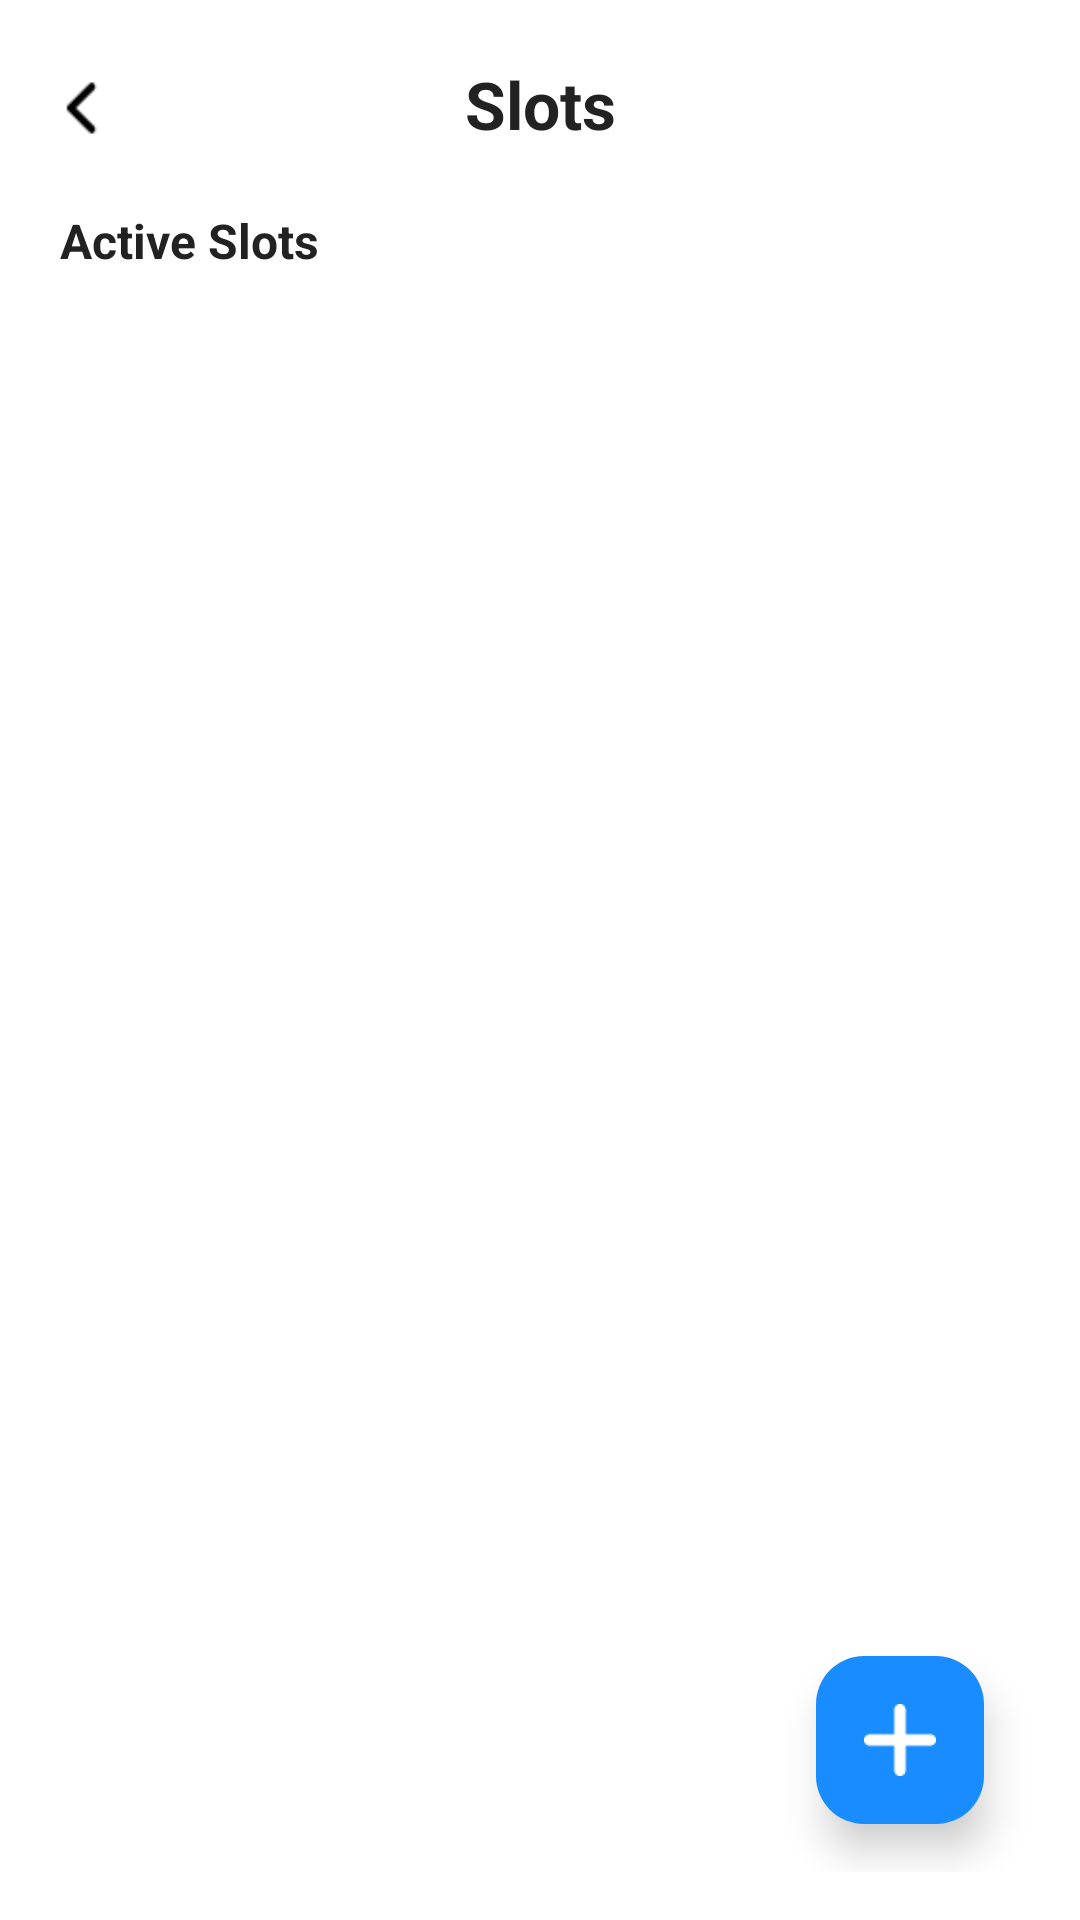

Named icons in this screenshot (1080w x 1920h) and their bounding boxes, region(x1, y1, x2, y2):
Add New Slot: region(816, 1656, 984, 1824)
Back arrow: region(66, 82, 97, 134)
